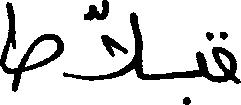X: (0, 0, 64, 96), (81, 0, 141, 85), (213, 27, 240, 88), (196, 28, 206, 82)
